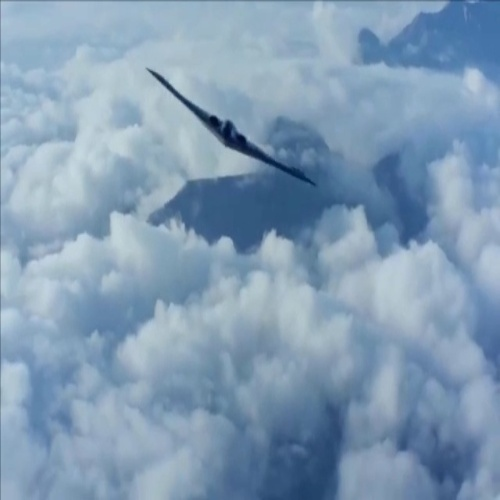uav: (145, 61, 325, 192)
